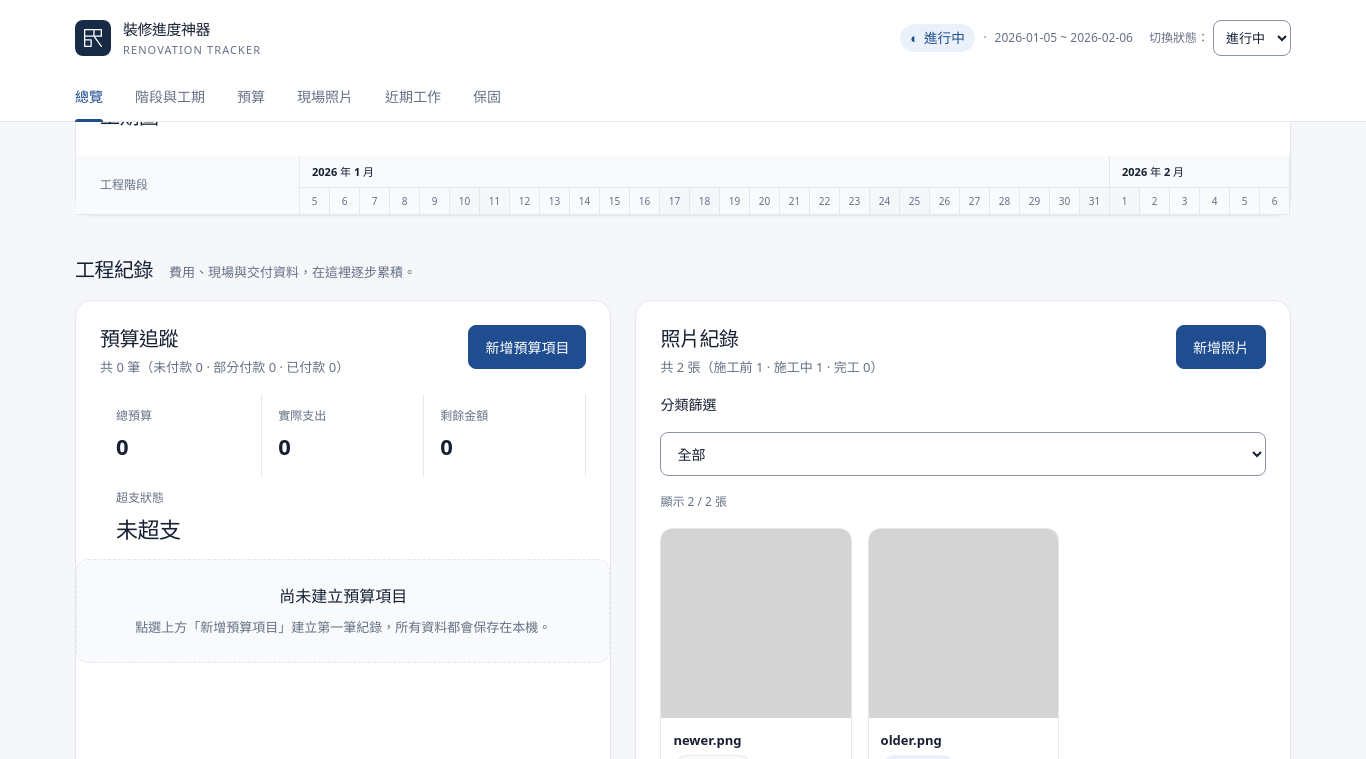
Test case: AC-FR002-03 filter + timeline ordering › filters by kind and shows only matching rows
The image size is (1366, 759).
(page scrolled)
Expected: the text "newer.png" is shown, 673,731 -> 742,749
Select "施工前" in the dropdown with test id "photo-filter" at (963, 454), box 660,432 -> 1266,476
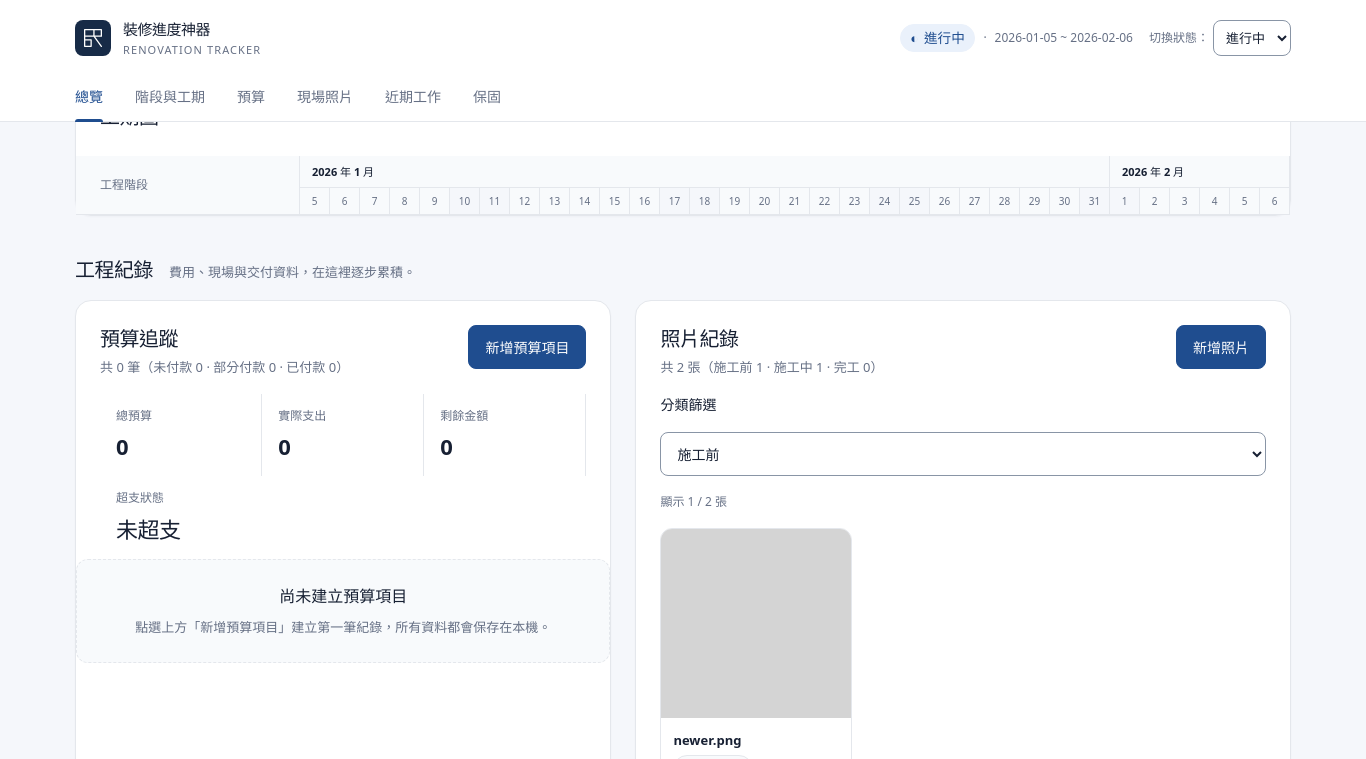
Expected: the text "newer.png" is shown, 673,731 -> 742,749
Now the text "older.png" is gone
Now the text with test id "photo-filter-count" shows "1 / 2", box 660,492 -> 727,512
Select "施工中" in the dropdown with test id "photo-filter" at (963, 454), box 660,432 -> 1266,476
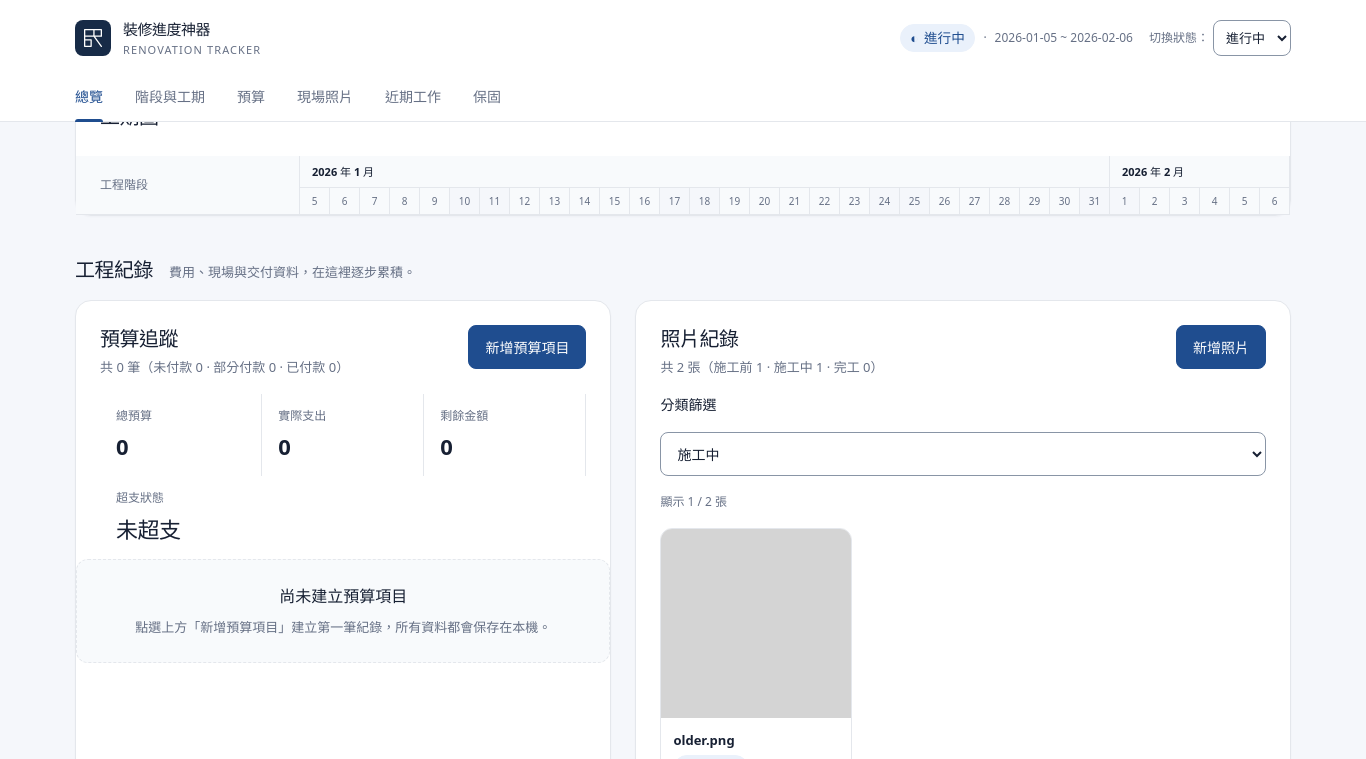
Now the text "older.png" is shown, box 673,731 -> 735,749
Now the text "newer.png" is gone
